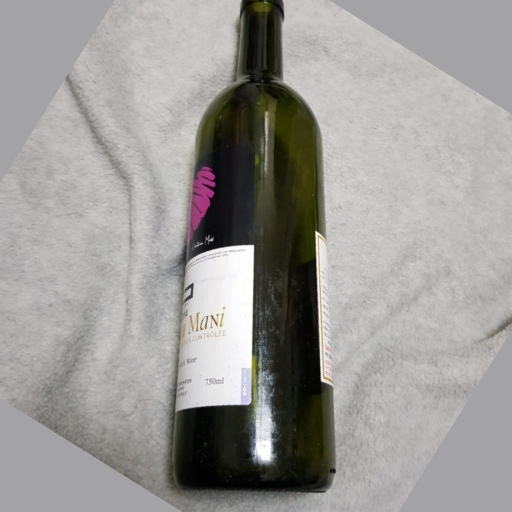Glass_2: (163, 1, 349, 500)
